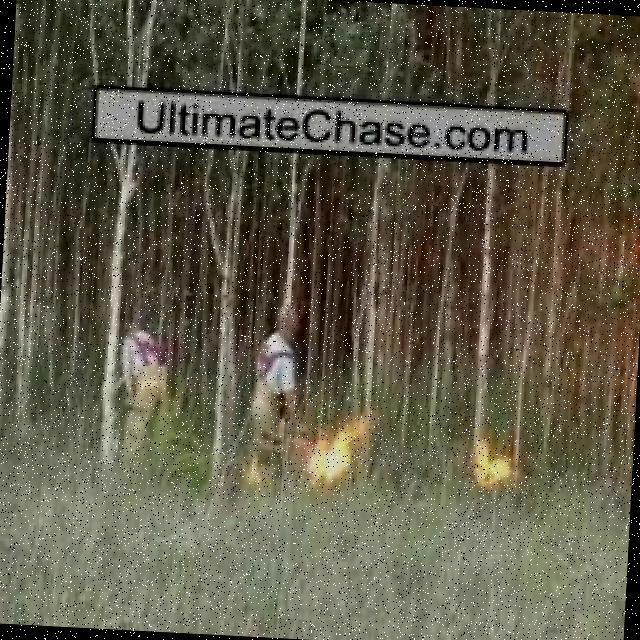Fire: (307, 425, 365, 483), (475, 452, 515, 495), (246, 464, 260, 486)
